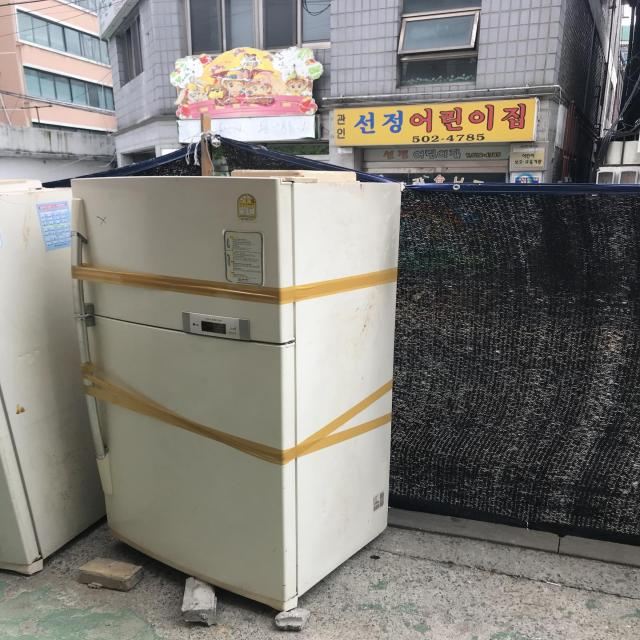refrigerator: (58, 170, 406, 606)
